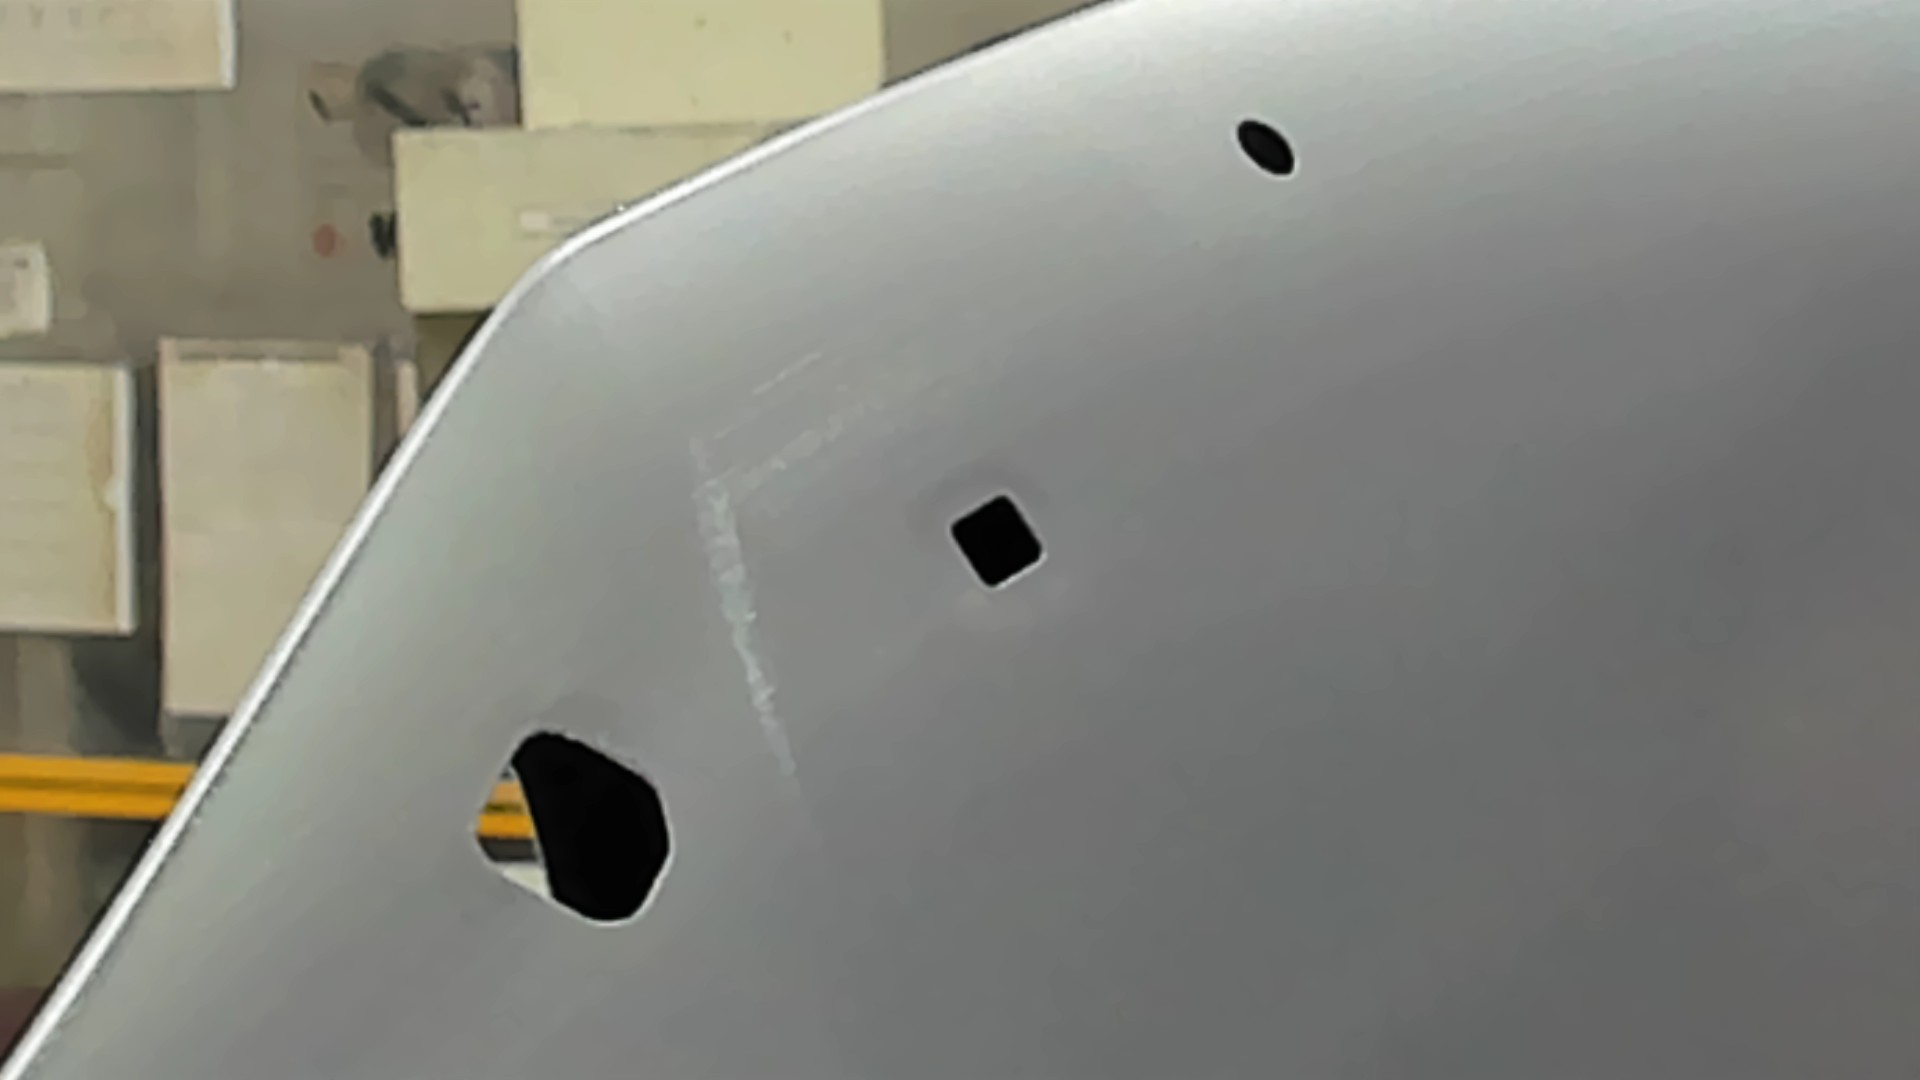chico: (1234, 113, 1299, 183)
grande: (469, 727, 678, 928)
mediano: (947, 491, 1048, 593)
